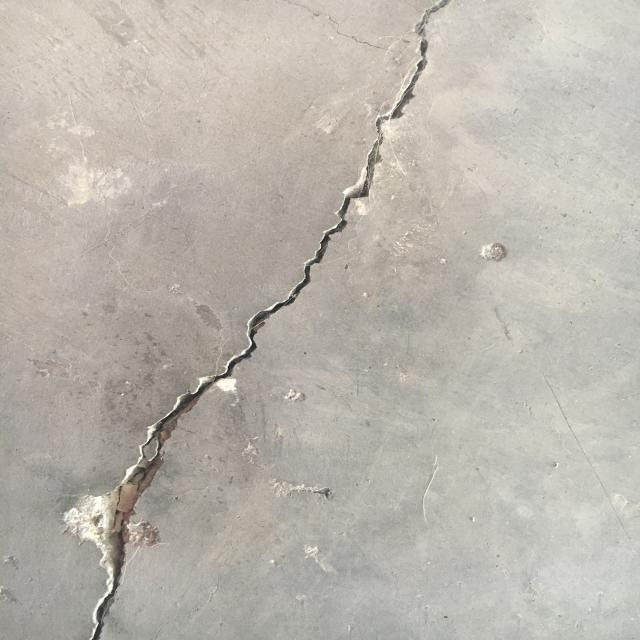Rachadura: (65, 0, 449, 640)
